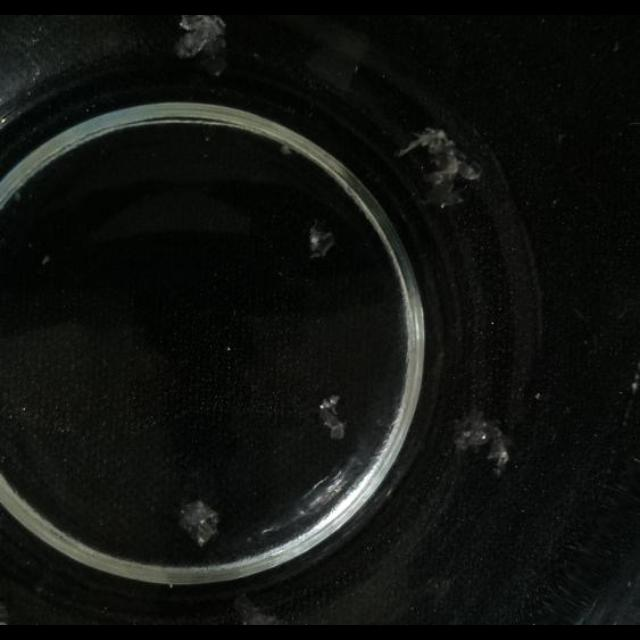Fibre: (318, 396, 348, 440), (628, 368, 640, 394), (634, 378, 640, 394)
Fragment: (402, 126, 480, 202), (455, 410, 511, 474), (307, 221, 335, 259)
microbeads: (40, 255, 50, 265)
